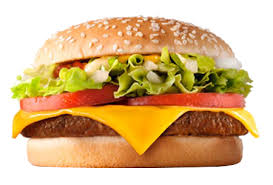hamburger: (16, 16, 259, 170)
